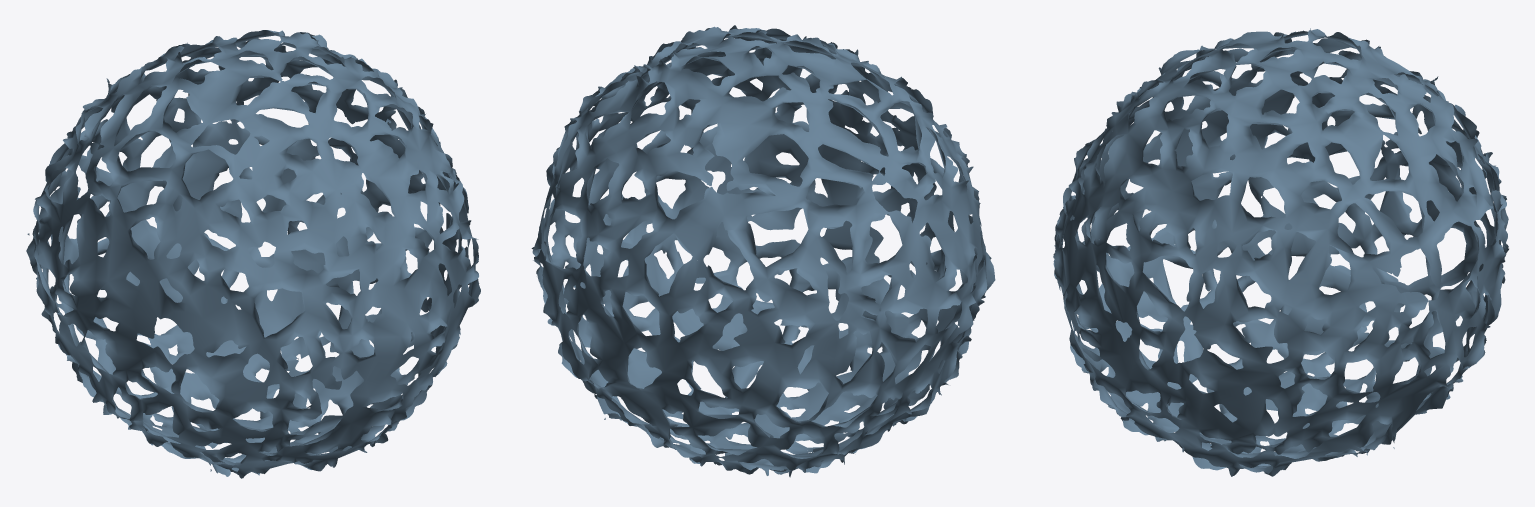
The model's file is GlobuleBlanc.fbx.
3 renders of one model, left to right at view 1: azimuth 30°, elevation 25°; view 2: azimuth 150°, elevation 25°; view 3: azimuth 270°, elevation 25°, orthographic. The views are drawn at different scales.
Visible parts, largest first — view 1: Group19318; view 2: Group19318; view 3: Group19318.
Boxes of the visible parts, x1=… form: Group19318: x1=26, y1=30, x2=480, y2=478; Group19318: x1=531, y1=25, x2=995, y2=477; Group19318: x1=1053, y1=28, x2=1508, y2=476.
Bounding box in the file's own units: 20.45 × 20.19 × 20.33.
